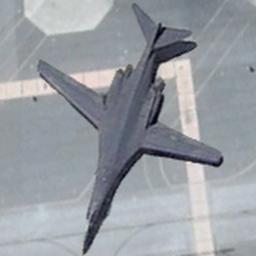Airplane: (35, 2, 224, 255)
